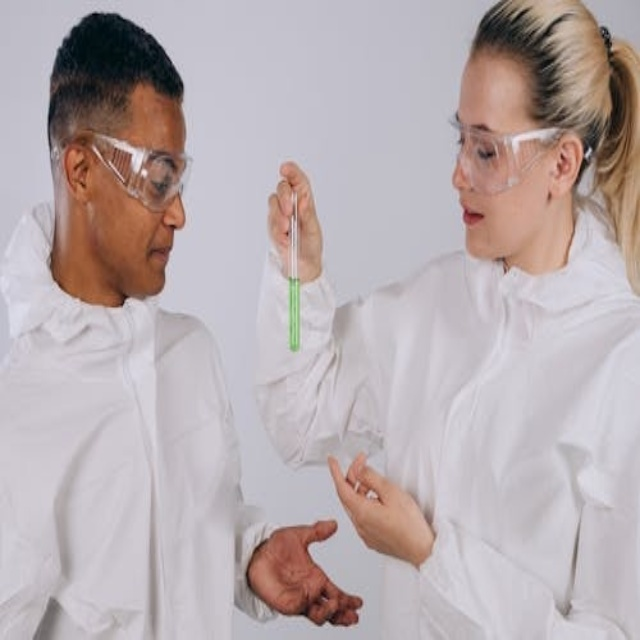Gafas: (55, 132, 192, 211), (448, 116, 580, 194)
Sin_guantes: (250, 516, 363, 626), (326, 446, 426, 566), (257, 156, 325, 284)
Sin_mascara: (129, 233, 175, 294), (457, 196, 497, 256)
